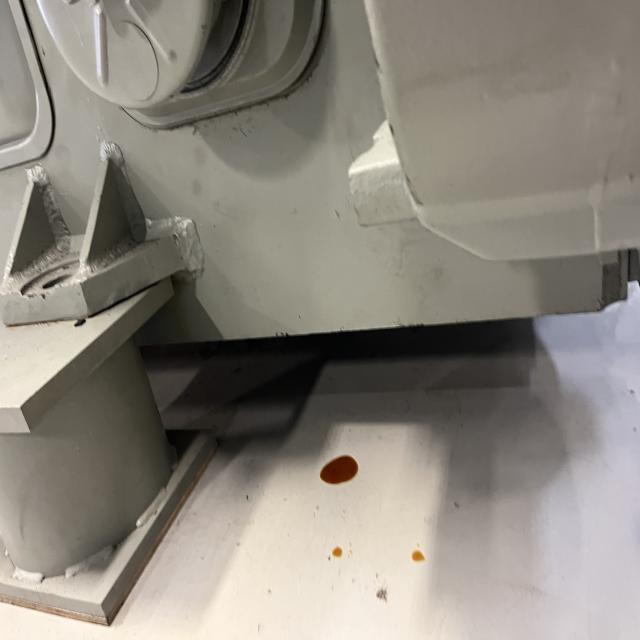Oil Leak: (316, 452, 362, 490), (411, 549, 425, 562), (331, 545, 344, 558)
